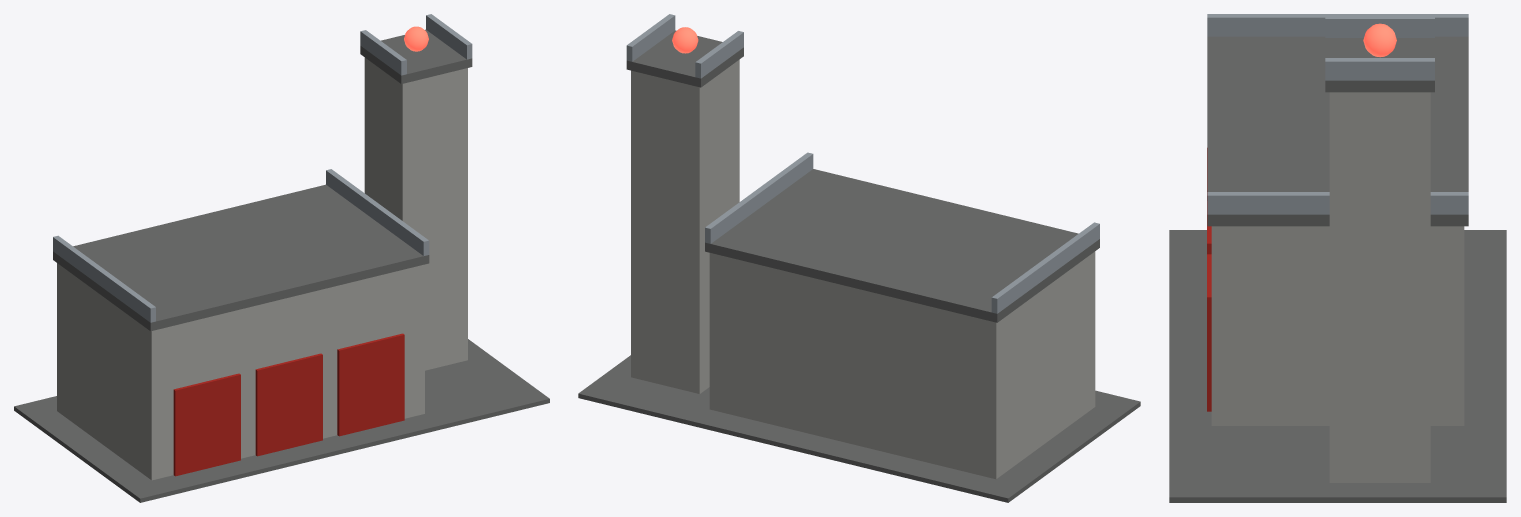
The model's file is bld_special_fire_station_a06.glb.
3 views of the same model, side by side, from view 1: azimuth 30°, elevation 25°; view 2: azimuth 150°, elevation 25°; view 3: azimuth 270°, elevation 25° (orthographic). The views are drawn at different scales.
Visible parts, largest first — view 1: body; view 2: body; view 3: body.
Boxes of the visible parts, x1,y1,x2,y2 form: body: (14, 14, 549, 502); body: (578, 14, 1140, 502); body: (1169, 14, 1506, 502).
Size of what is drawn, in the model's own units: 15 by 11.58 by 8.
